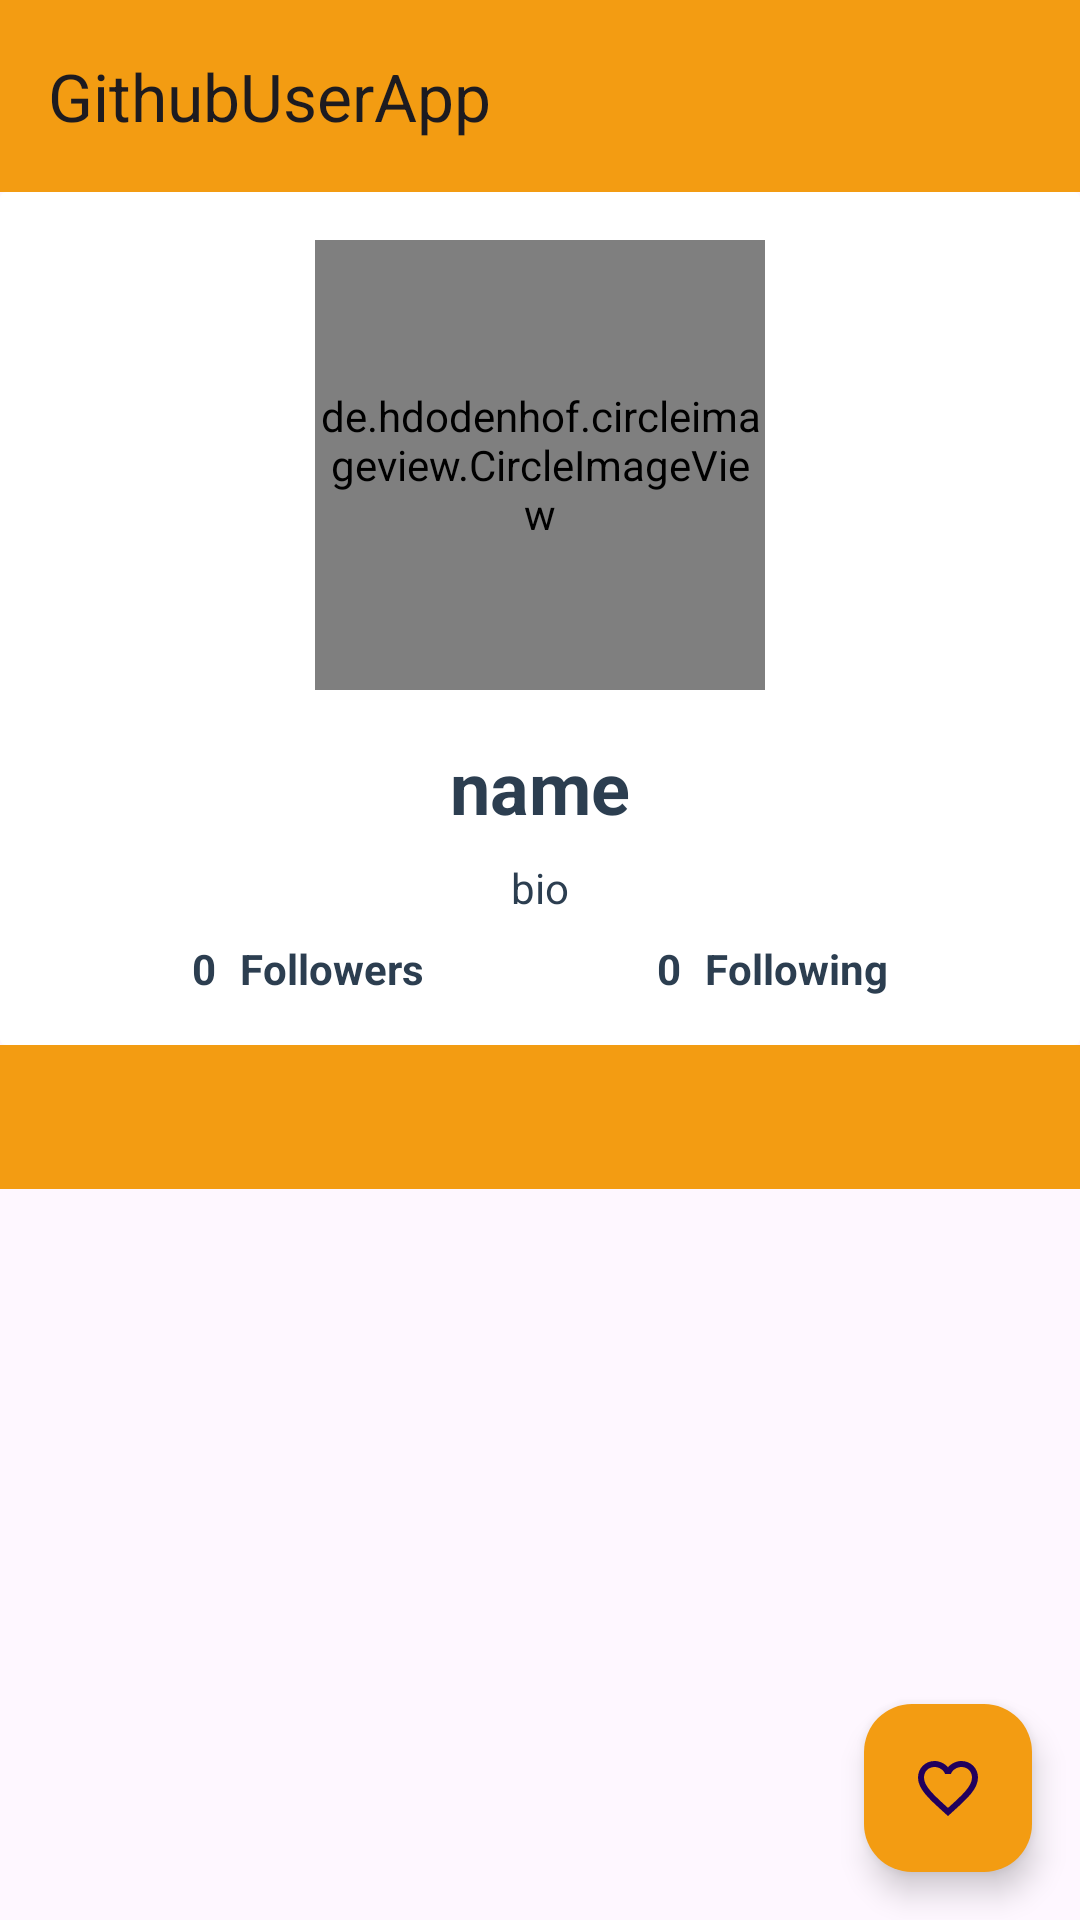

Icon bounding boxes for this 1080*1920 phone screenshot, format (x1, y1, x2, y2):
Favorite: (864, 1704, 1032, 1872)
